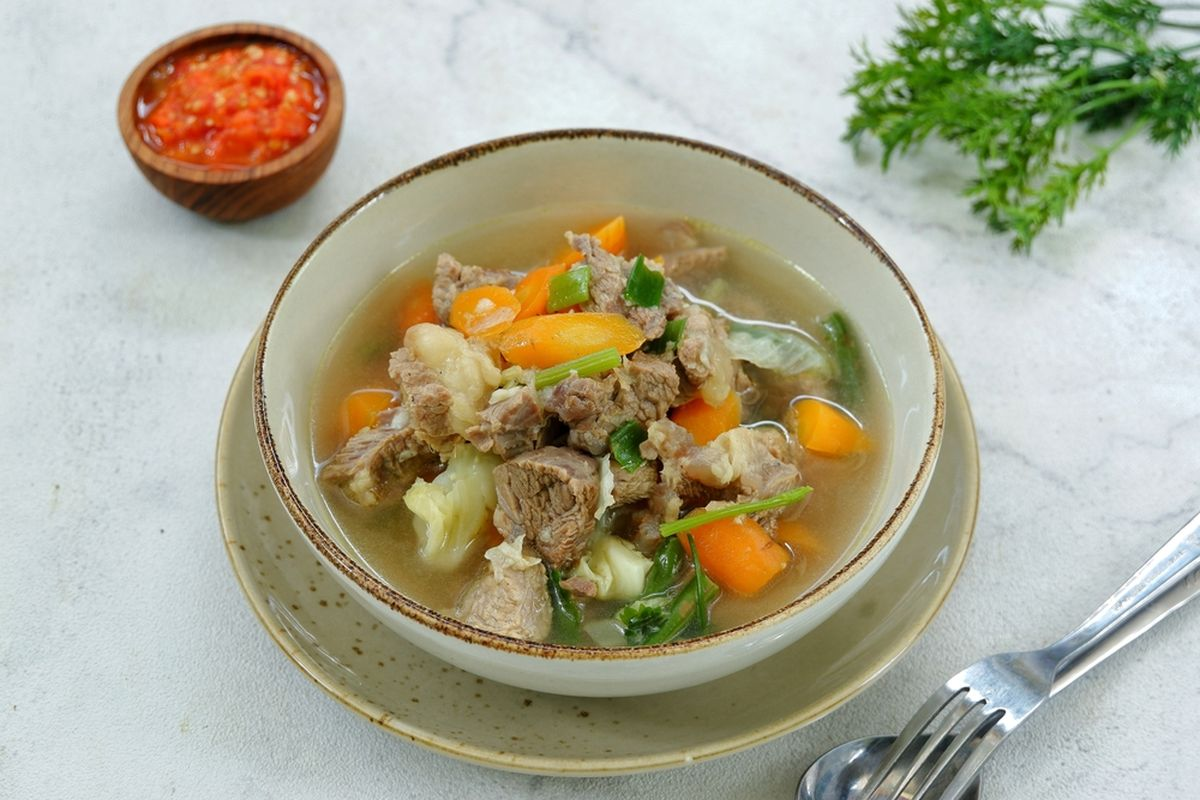buah_sayur_vitA: (168, 67, 292, 153), (501, 315, 653, 351), (715, 528, 772, 578)
daging: (503, 455, 581, 545), (570, 380, 668, 425), (342, 437, 436, 481)
